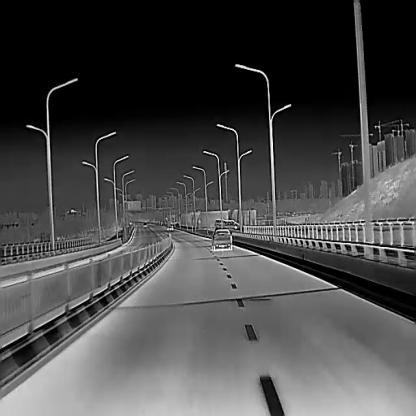car: (211, 228, 233, 249), (223, 220, 241, 229), (214, 217, 223, 227), (224, 223, 237, 228), (166, 223, 173, 231)
